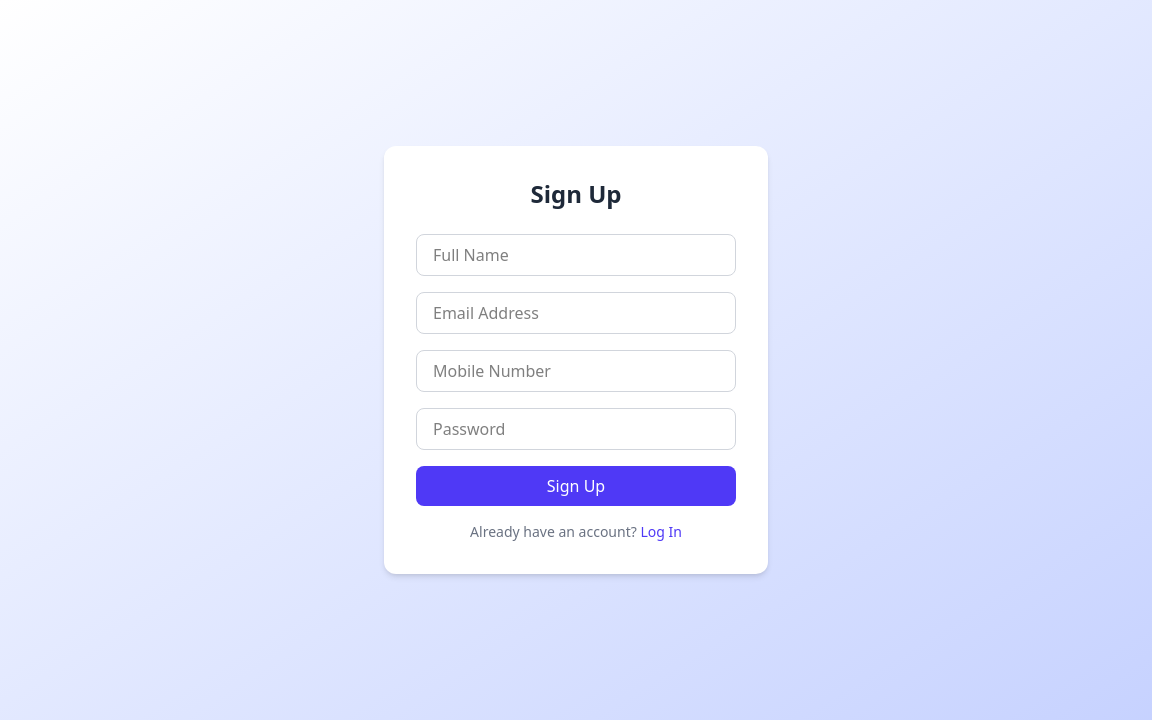
Scenario: Signup Page › should display error message on signup failure
The image size is (1152, 720).
Type "Test User" into the field with placeholder "Full Name" at [576, 255], box [416,234,736,276]
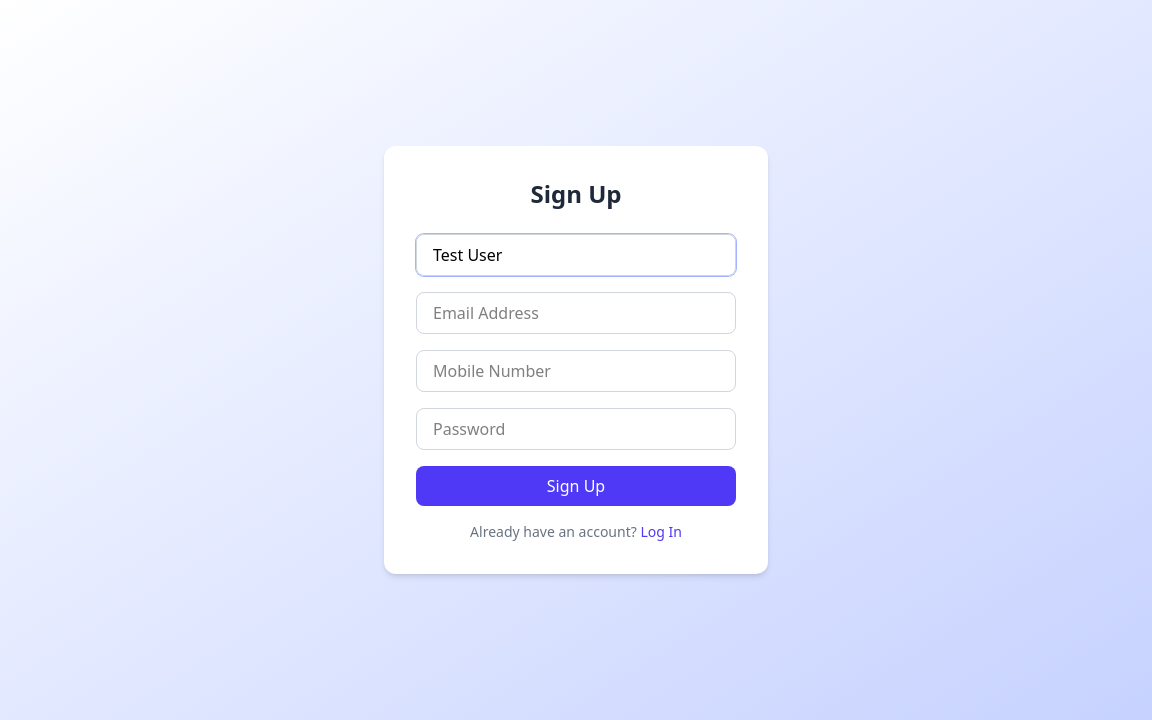
Type "test@example.com" into the field with placeholder "Email Address" at [576, 313], box [416,292,736,334]
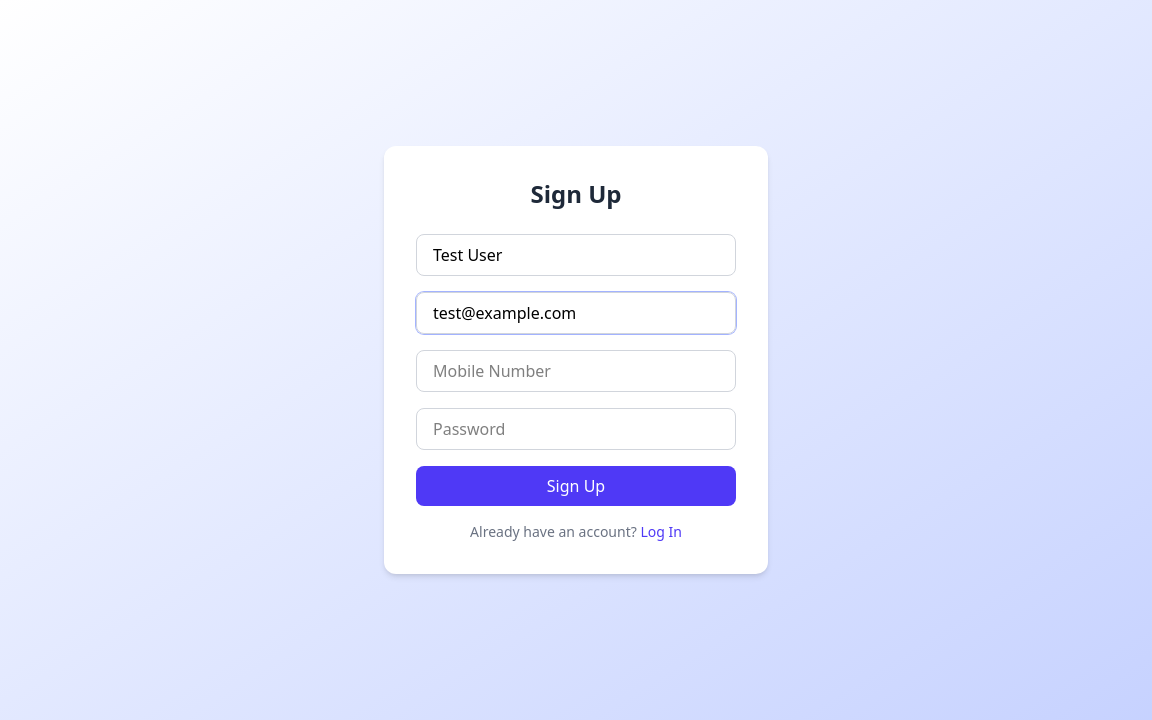
Type "1234567890" into the field with placeholder "Mobile Number" at [576, 371], box [416,350,736,392]
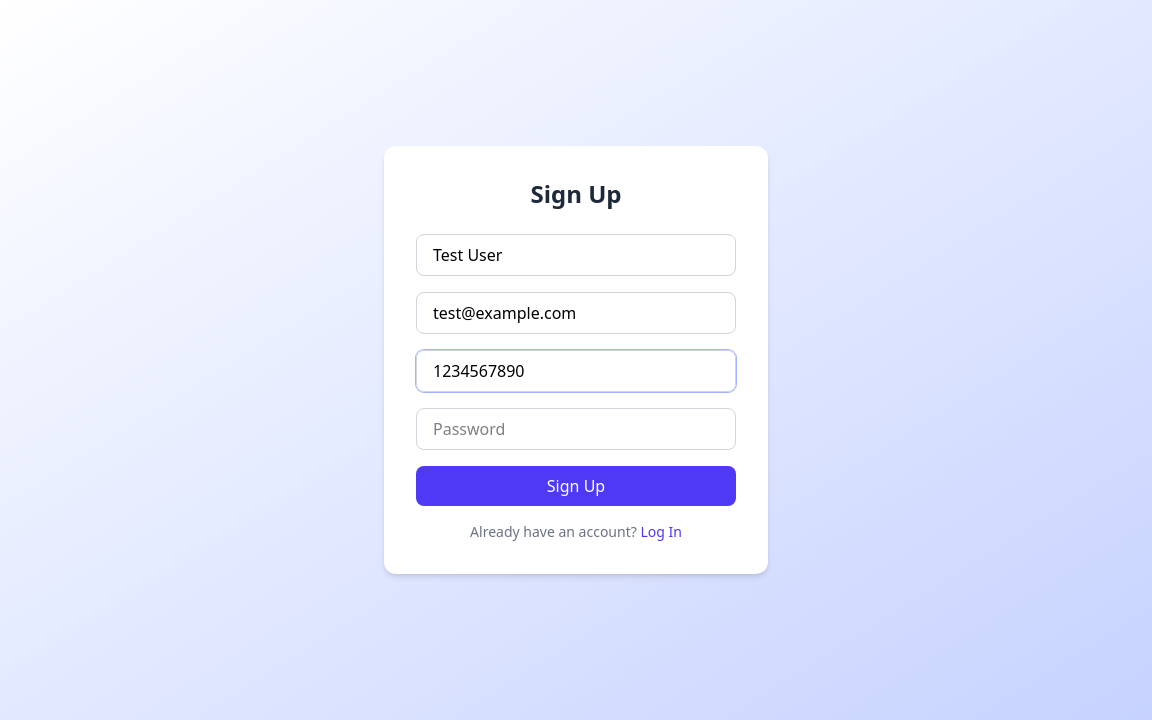
Type "password123" into the password field with placeholder "Password" at [576, 429], box [416,408,736,450]
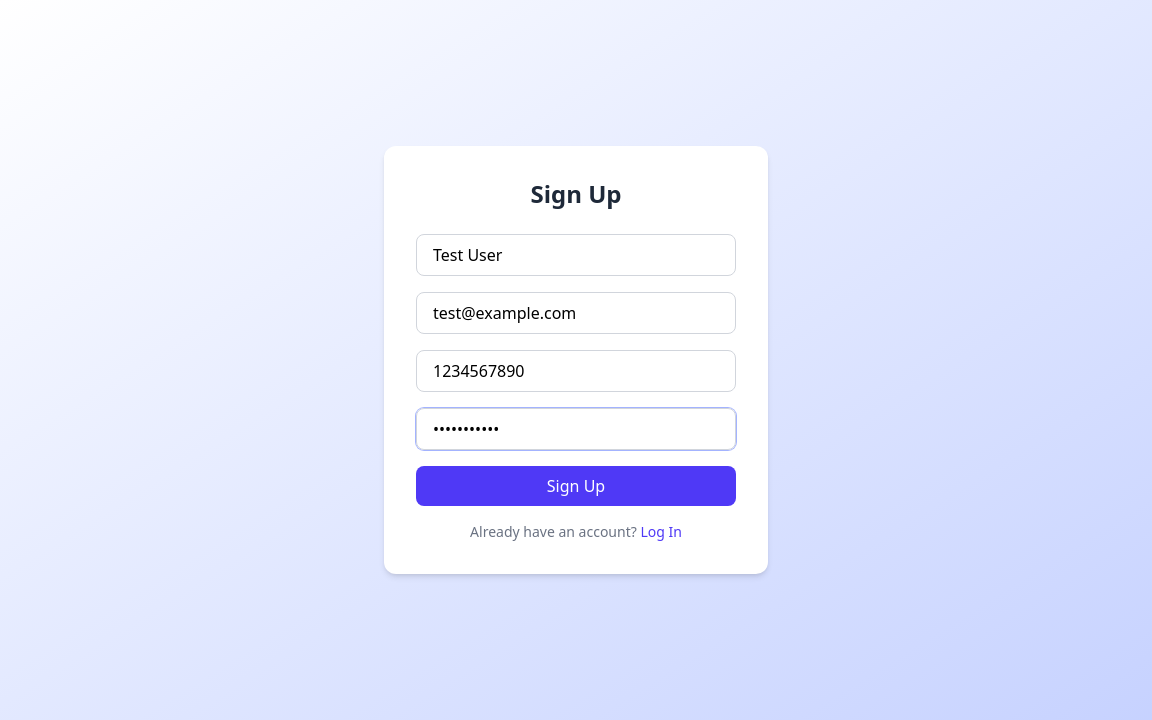
Click the button "Sign Up" at [576, 486], box [416,466,736,506]
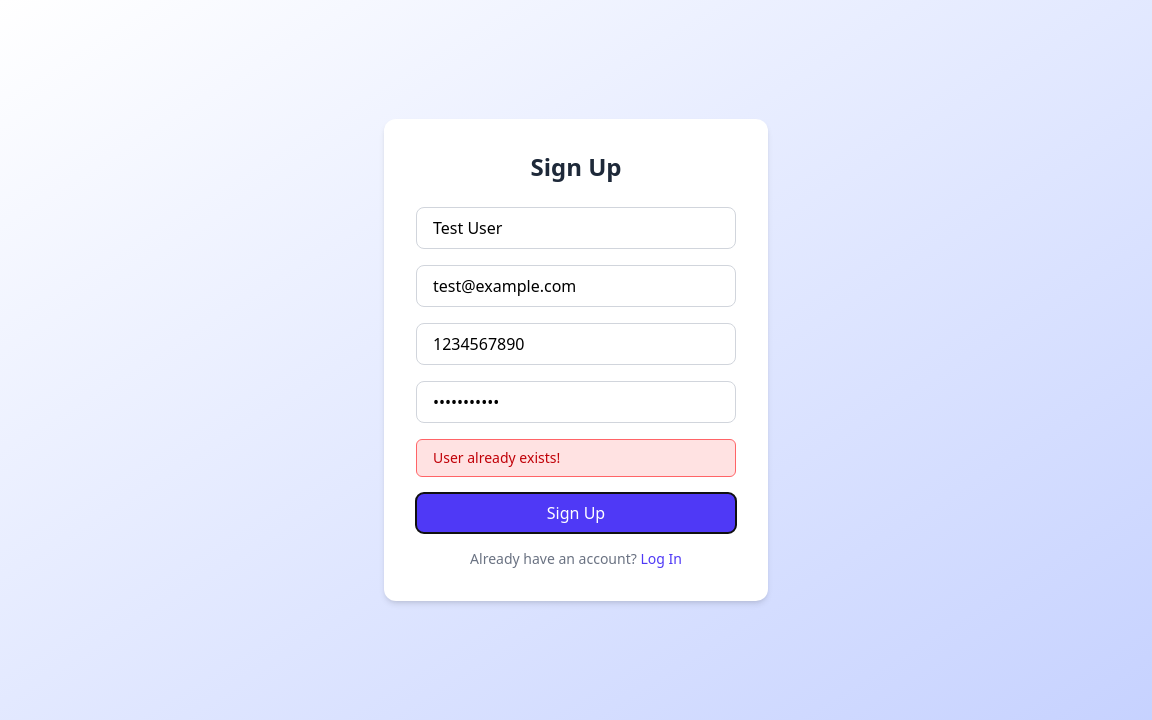
expect the text "User already exists!" is shown: met, box [416,439,736,477]
